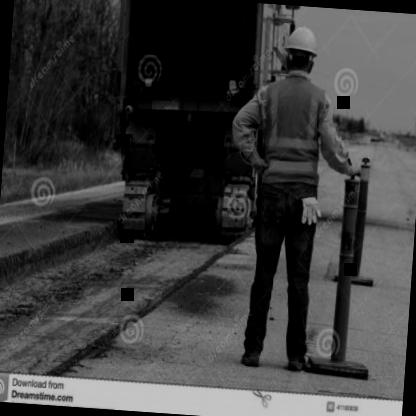helmet: (279, 22, 321, 78)
